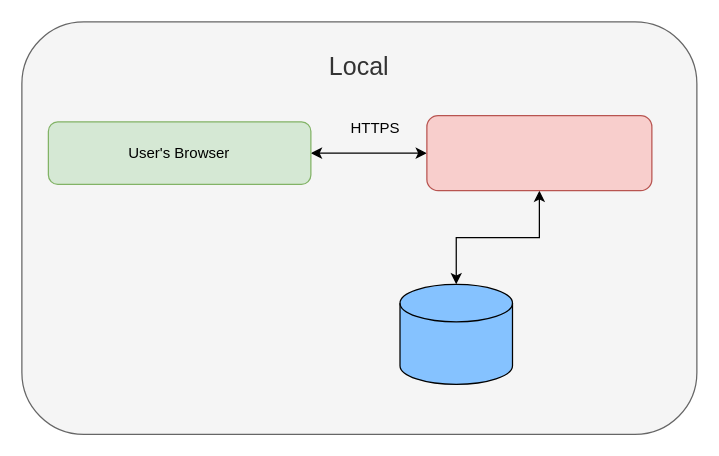
Some shapes in this 719 by 456 pixel diagram are drawn without their labels. Each missing label, with the centre of its shape:
"SQLite" belongs at point 455,333.
"Web Application" belongs at point 539,152.
